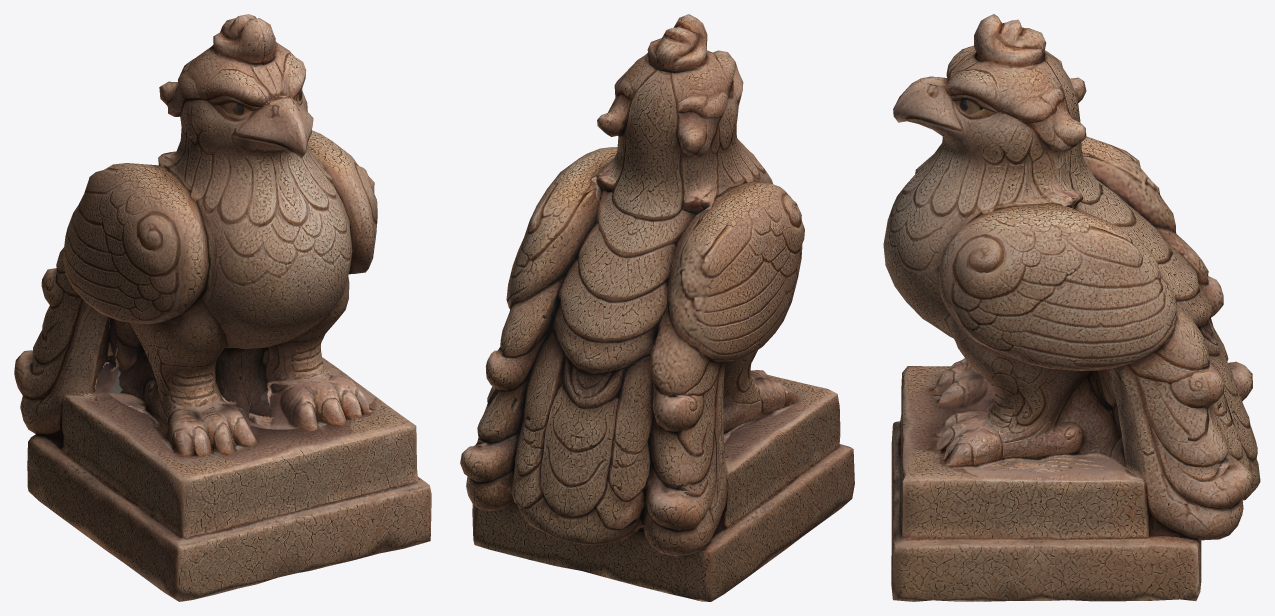
The model's file is 경복궁_석상_주작.glb.
The picture shows the model from 3 angles, left to right: view 1: azimuth 30°, elevation 25°; view 2: azimuth 150°, elevation 25°; view 3: azimuth 270°, elevation 25°; orthographic projection. The views are drawn at different scales.
Parts seen in each view (by area): view 1: texture_mapping; view 2: texture_mapping; view 3: texture_mapping.
Boxes of the visible parts, bbox=[...] form: texture_mapping: bbox=[14, 14, 431, 601]; texture_mapping: bbox=[460, 14, 854, 601]; texture_mapping: bbox=[883, 14, 1260, 601].
Bounding box in the file's own units: 0.5183 × 1 × 0.6534.
1 material, 1 textured.
